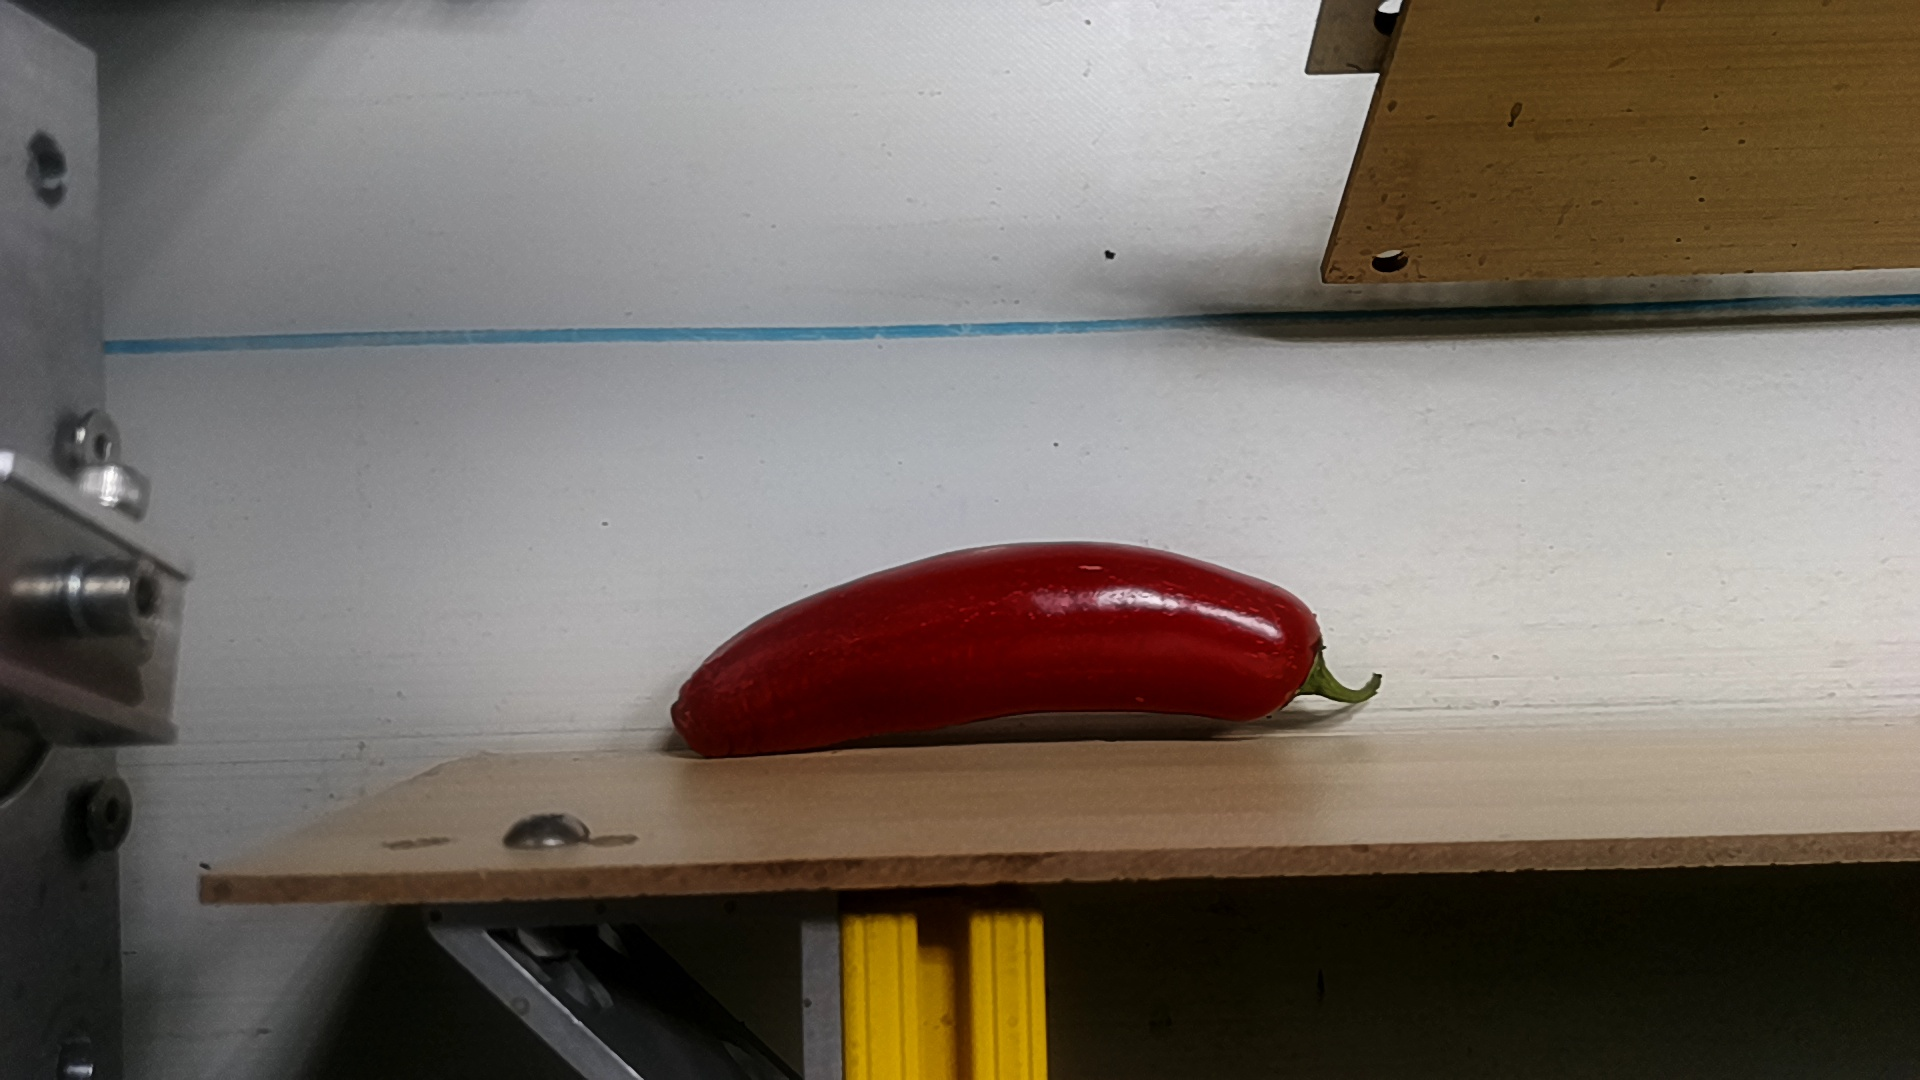Cut Point: (1250, 575, 1356, 733)
